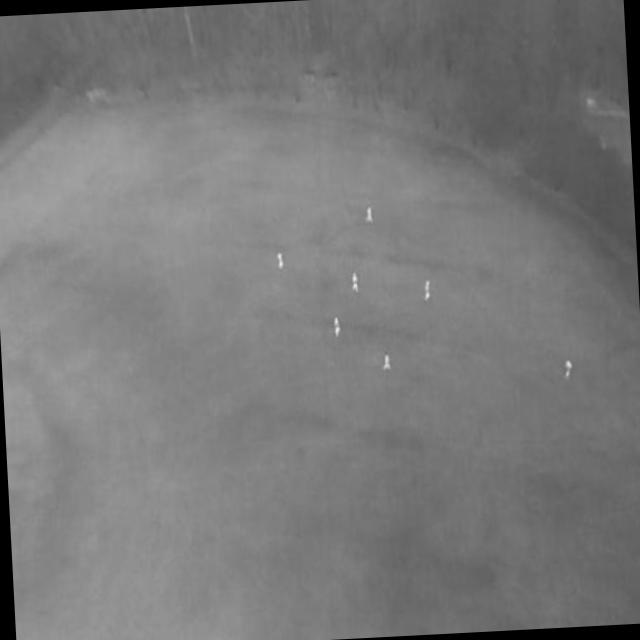person: (563, 359, 574, 383), (423, 281, 433, 305), (350, 270, 360, 294), (382, 352, 393, 373), (276, 251, 285, 274), (333, 317, 342, 340), (365, 206, 374, 225)
